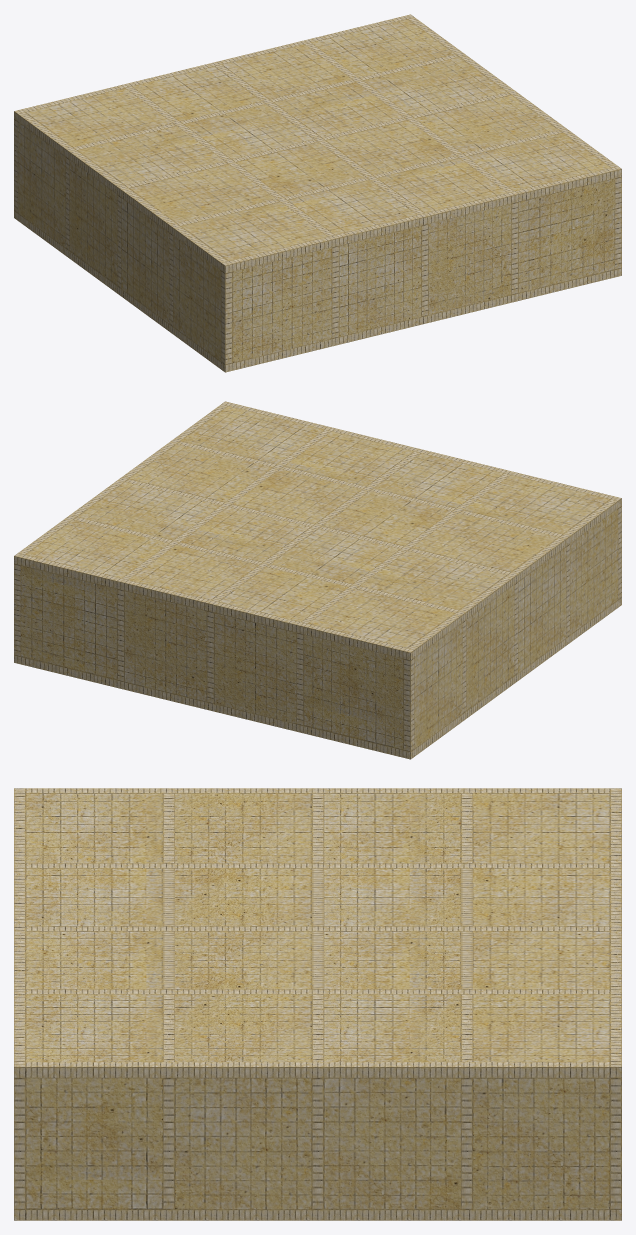
File: bridge_structure_start_foundation.dae
The picture shows the model from 3 angles, top to bottom: view 1: azimuth 30°, elevation 25°; view 2: azimuth 150°, elevation 25°; view 3: azimuth 270°, elevation 25°; orthographic projection. The views are drawn at different scales.
Parts seen in each view (by area): view 1: bridge_structure_start_foundation; view 2: bridge_structure_start_foundation; view 3: bridge_structure_start_foundation.
Part boxes in pixels (x1,y1,x2,y2): bridge_structure_start_foundation: (14,14,621,372); bridge_structure_start_foundation: (14,401,621,759); bridge_structure_start_foundation: (14,788,621,1220).
Size of the model in its own units: 41.29 by 38.07 by 10.62.
2 materials, 2 textured.
